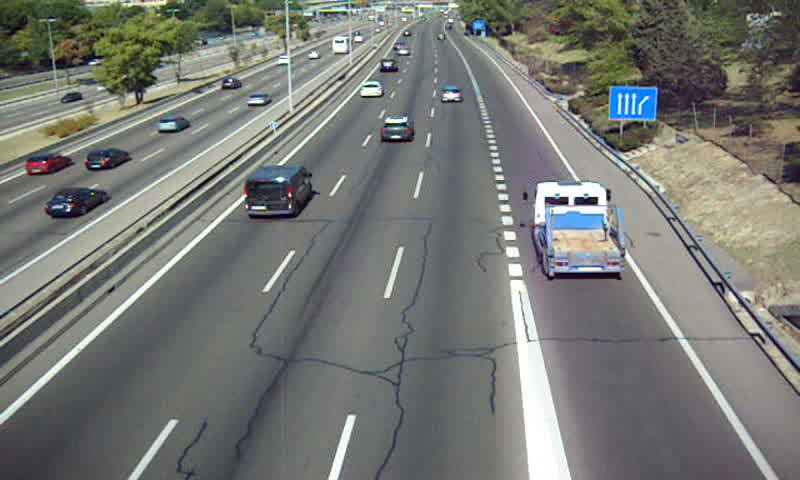car: (380, 116, 412, 143), (440, 86, 464, 105), (359, 81, 383, 97), (378, 58, 397, 73)
small-truck: (533, 181, 628, 277)
van: (243, 165, 312, 218)
